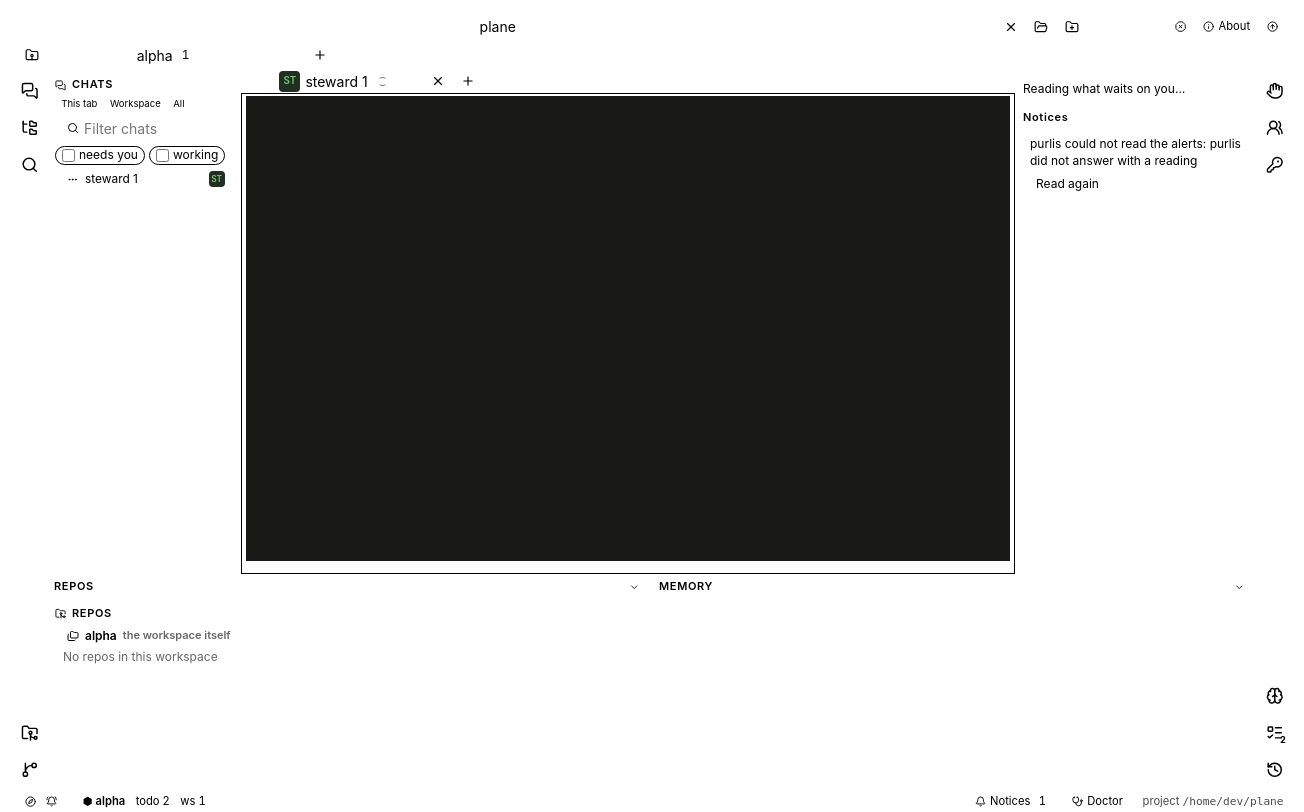
Test: a todo row › opens the todo as a view tab on its workspace's strip, with all of it
Click the tab named "Todos" at (1274, 733), box [1257,715,1292,750]
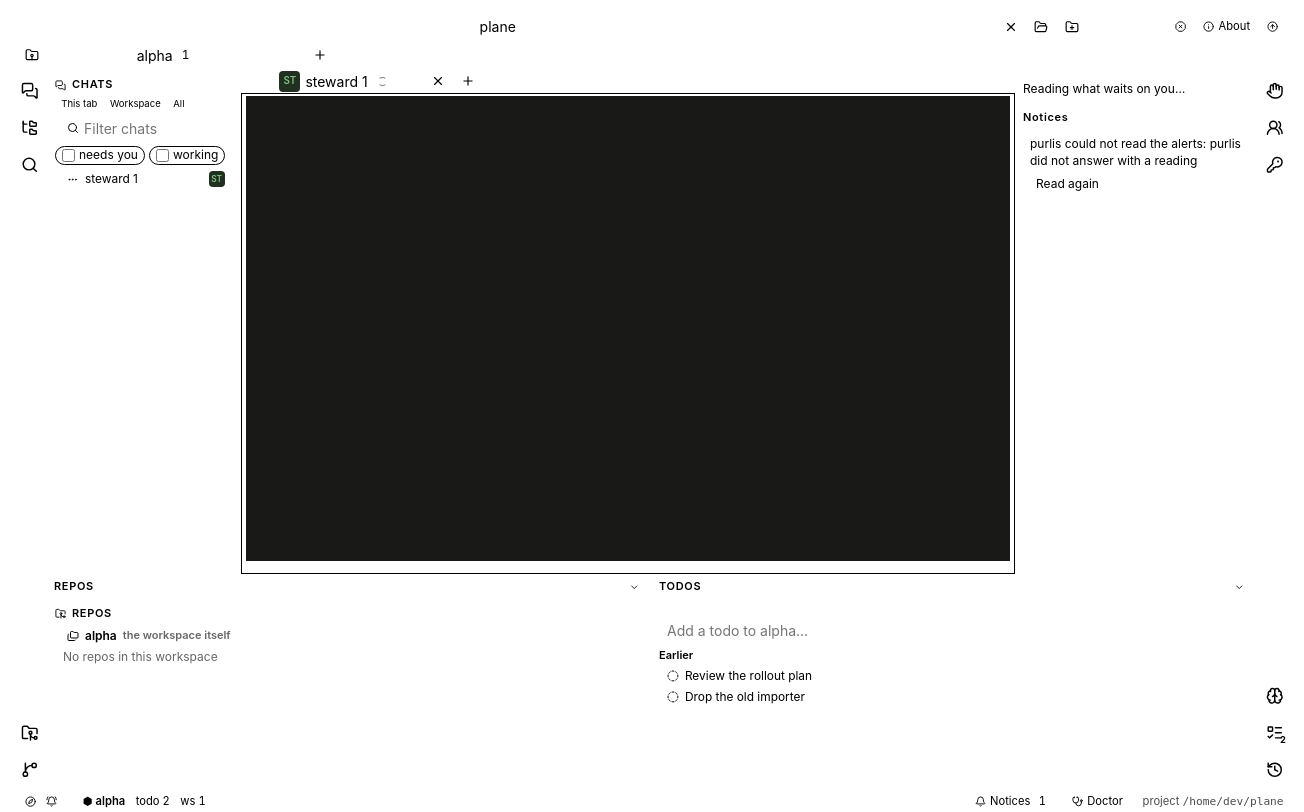
Click the button "Review the rollout plan" at (748, 675), box [659,666,1250,686]
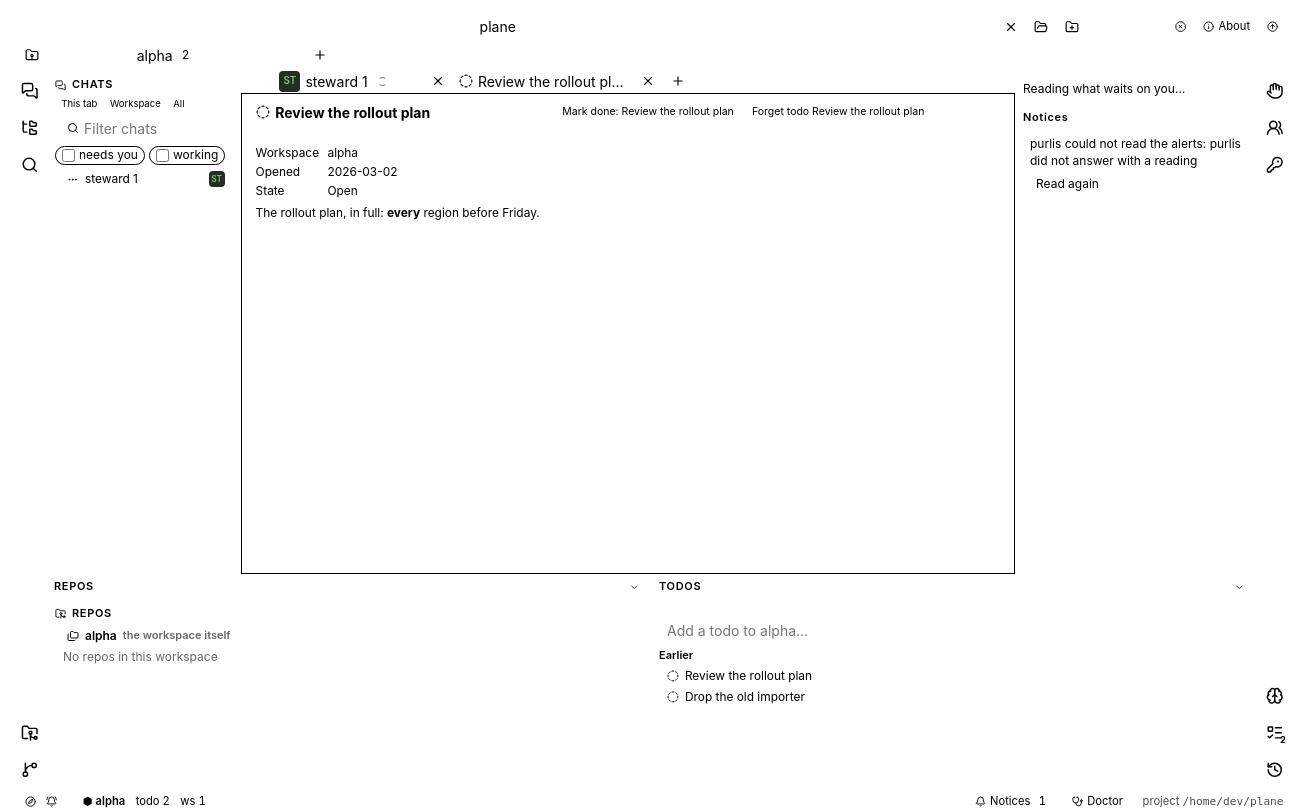
Expected: the element with test id "todo-body" reads "The rollout plan, in full: every region before Friday.", [256,205,540,220]
Expected: the tab "Review the rollout plan" is shown, [451,69,635,93]
Expected: the text "Opened" is shown, [256,164,300,179]
